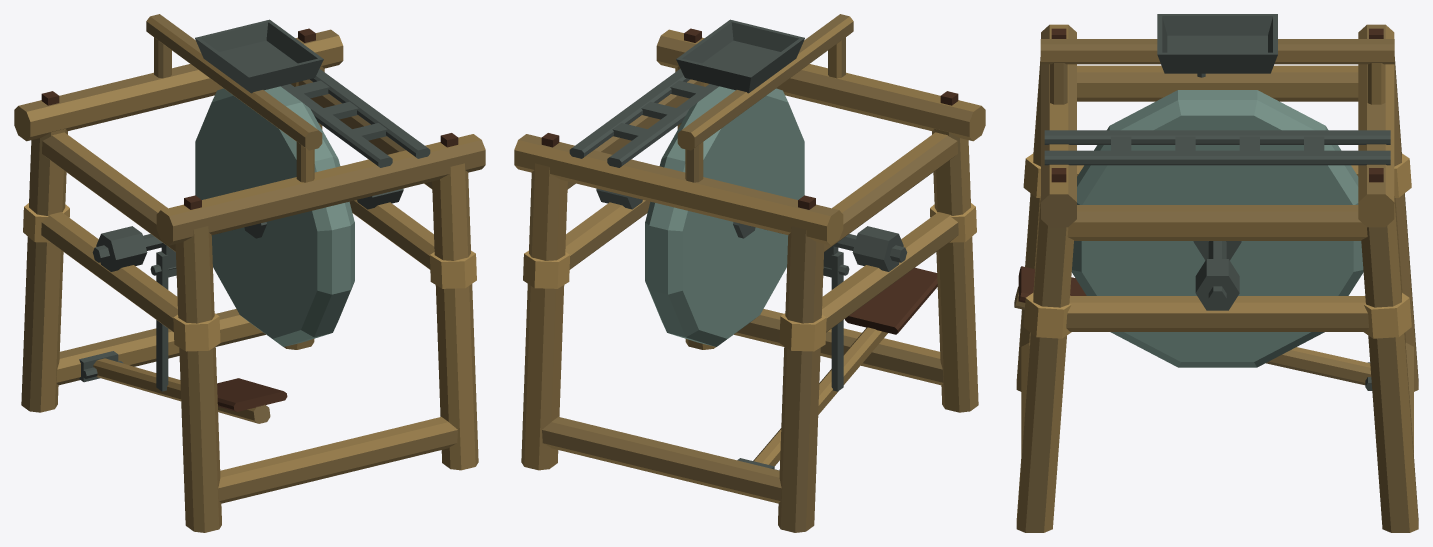
File: manual-edge-maintenance-station-0f239d.glb
The picture shows the model from 3 angles, left to right: view 1: azimuth 30°, elevation 25°; view 2: azimuth 150°, elevation 25°; view 3: azimuth 270°, elevation 25°; orthographic projection. The views are drawn at different scales.
Visible parts, largest first — view 1: station-body, wheel-mesh, pedal-mesh, tool-rest-mesh, axle-mesh; view 2: station-body, wheel-mesh, pedal-mesh, tool-rest-mesh, axle-mesh; view 3: station-body, wheel-mesh, tool-rest-mesh, pedal-mesh, axle-mesh.
Part boxes in pixels (<box>): station-body: <box>14,14,485,532</box>; wheel-mesh: <box>195,86,354,346</box>; pedal-mesh: <box>93,251,287,423</box>; tool-rest-mesh: <box>281,68,430,167</box>; axle-mesh: <box>92,234,176,277</box>; station-body: <box>514,14,985,532</box>; wheel-mesh: <box>645,86,804,346</box>; pedal-mesh: <box>753,251,937,466</box>; tool-rest-mesh: <box>569,68,718,167</box>; axle-mesh: <box>823,234,907,277</box>; station-body: <box>1016,14,1418,532</box>; wheel-mesh: <box>1071,90,1363,367</box>; tool-rest-mesh: <box>1044,130,1390,165</box>; pedal-mesh: <box>1014,266,1371,385</box>; axle-mesh: <box>1208,241,1226,305</box>.
Size of the model in its own units: 1 by 1.17 by 1.01.
